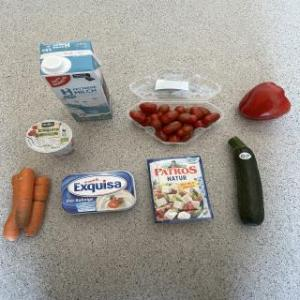bell_pepper: (236, 79, 294, 125)
carrot: (5, 166, 43, 234), (26, 168, 56, 240), (5, 169, 25, 249)
tomato: (137, 101, 163, 117), (158, 119, 183, 135), (158, 107, 180, 125), (200, 107, 222, 125)
zucchini: (222, 133, 280, 237)
